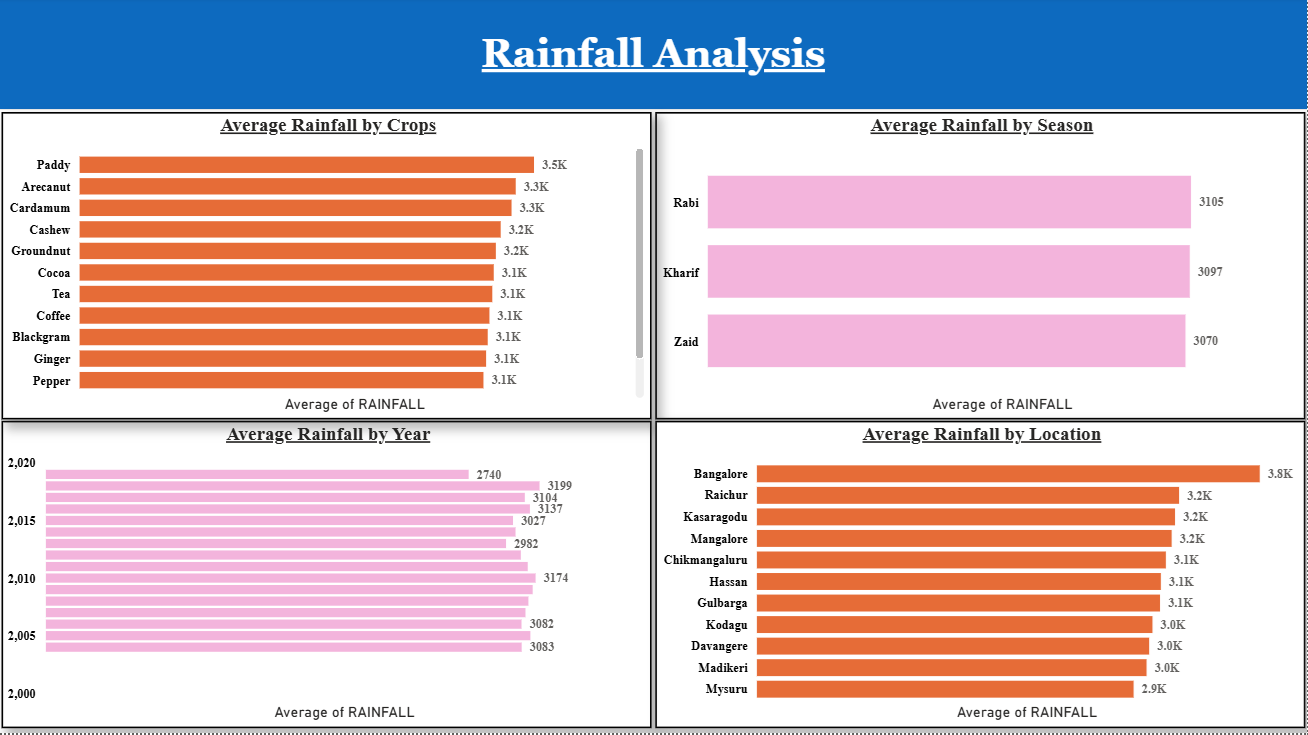

What the dashboard file says about the page in this screenshot:
{"tool":"powerbi","page":{"name":"Rainfall Analysis","canvas":[1280,720],"ordinal":0},"visuals":[{"type":"shape","box":[0,0,1280,110],"z":0},{"type":"barChart","title":"Average Rainfall by Year","fields":{"Y":["Avg(AGRICULTURE.RAINFALL)"],"Category":["AGRICULTURE.YEAR"]},"box":[2,415,636,301],"z":1000},{"type":"barChart","title":"Average Rainfall by Season","fields":{"Y":["Avg(AGRICULTURE.RAINFALL)"],"Category":["AGRICULTURE.SEASON"]},"box":[642,112,636,301],"z":2000},{"type":"barChart","title":"Average Rainfall by Crops","fields":{"Y":["Avg(AGRICULTURE.RAINFALL)"],"Category":["AGRICULTURE.CROPS"]},"box":[2,112,636,301],"z":3000},{"type":"barChart","title":"Average Rainfall by Location","fields":{"Y":["Avg(AGRICULTURE.RAINFALL)"],"Category":["AGRICULTURE.LOCATION"]},"box":[642,415,636,301],"z":4000}]}

Visuals, with their boxes in screenshot pixels (x1, y1, x2, y2), scaled from the page's 1280x720 canvas onto the 1308x735 screenshot:
shape: [x1=0, y1=0, x2=1307, y2=112]
"Average Rainfall by Year" barChart: [x1=2, y1=424, x2=652, y2=731]
"Average Rainfall by Season" barChart: [x1=656, y1=114, x2=1306, y2=422]
"Average Rainfall by Crops" barChart: [x1=2, y1=114, x2=652, y2=422]
"Average Rainfall by Location" barChart: [x1=656, y1=424, x2=1306, y2=731]
